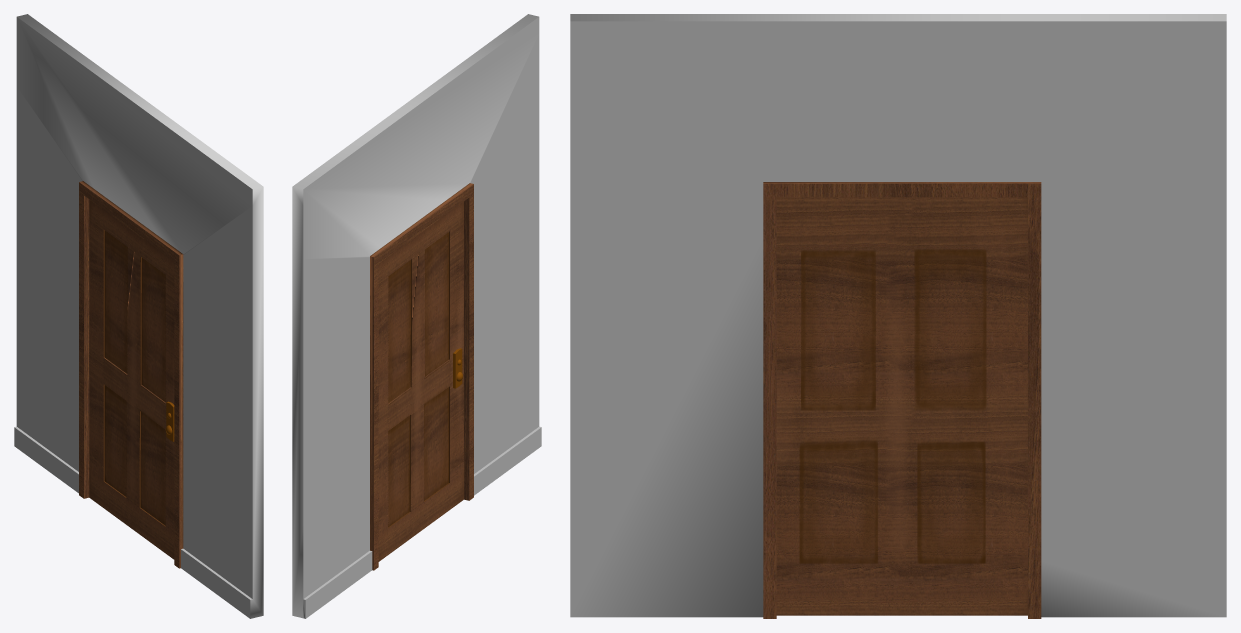
The model's file is Wall_door.FBX.
The picture shows the model from 3 angles, left to right: view 1: azimuth 30°, elevation 25°; view 2: azimuth 150°, elevation 25°; view 3: azimuth 270°, elevation 25°; orthographic projection. The views are drawn at different scales.
Visible parts, largest first — view 1: Wall_DoorSegment, Door; view 2: Wall_DoorSegment, Door; view 3: Wall_DoorSegment, Door.
Part boxes in pixels (x1=…): Wall_DoorSegment: x1=14, y1=14, x2=263, y2=618; Door: x1=89, y1=199, x2=174, y2=559; Wall_DoorSegment: x1=292, y1=14, x2=541, y2=618; Door: x1=378, y1=201, x2=463, y2=561; Wall_DoorSegment: x1=570, y1=14, x2=1226, y2=618; Door: x1=776, y1=197, x2=1027, y2=615.
Size of the model in its own units: 3.43 by 78.93 by 78.74.
